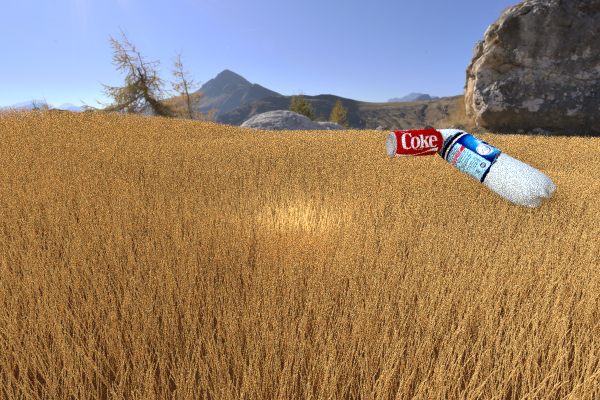bottle: (421, 124, 554, 207)
can: (0, 110, 49, 140), (122, 115, 165, 139)
